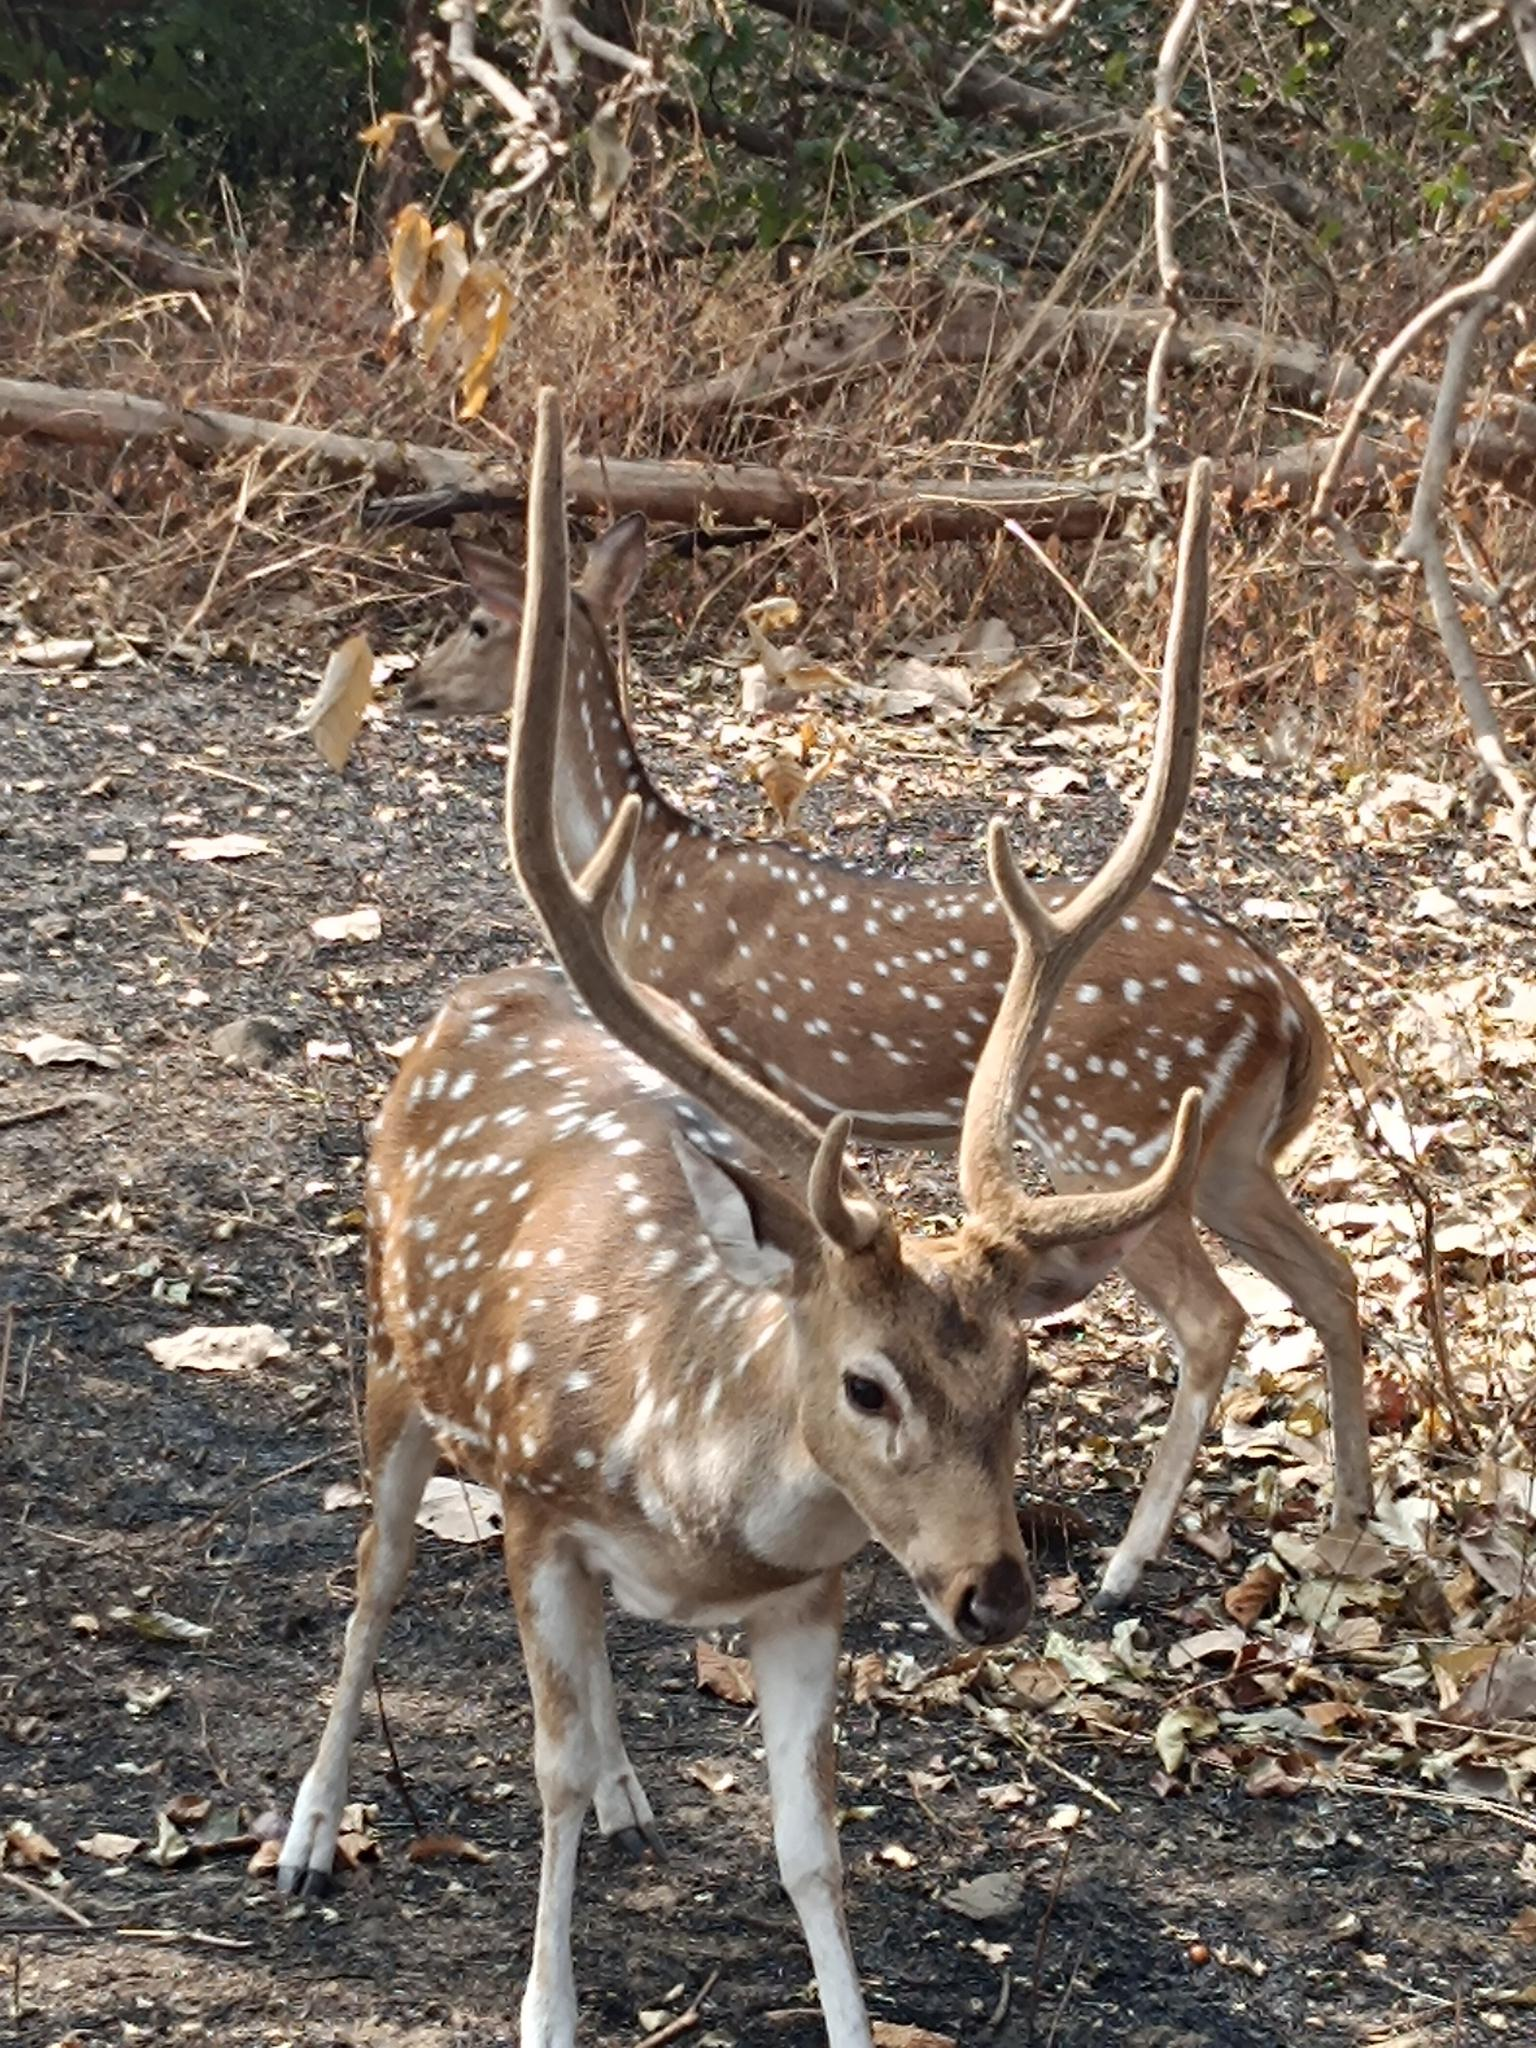Deer: (281, 393, 1207, 2046), (553, 514, 1012, 1142)
